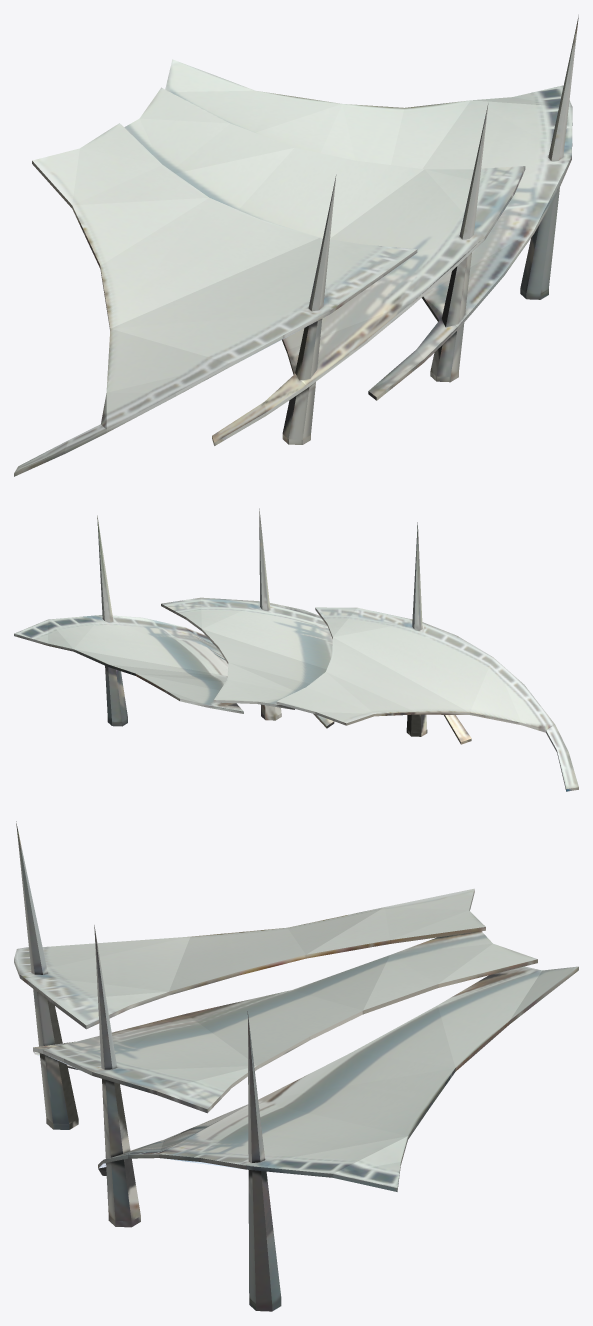
3 views of the same model, one above another, from view 1: azimuth 30°, elevation 25°; view 2: azimuth 150°, elevation 25°; view 3: azimuth 270°, elevation 25° (orthographic). The views are drawn at different scales.
Parts seen in each view (by area): view 1: 5_0.glb_1; view 2: 5_0.glb_1; view 3: 5_0.glb_1.
Boxes of the visible parts, box(x1,y1,x2,y2) form: 5_0.glb_1: box(14, 15, 578, 476); 5_0.glb_1: box(14, 508, 578, 791); 5_0.glb_1: box(14, 821, 578, 1311).
Bounding box in the file's own units: 51.12 × 20.27 × 32.95.
Materials: 2 (2 with a texture image).
